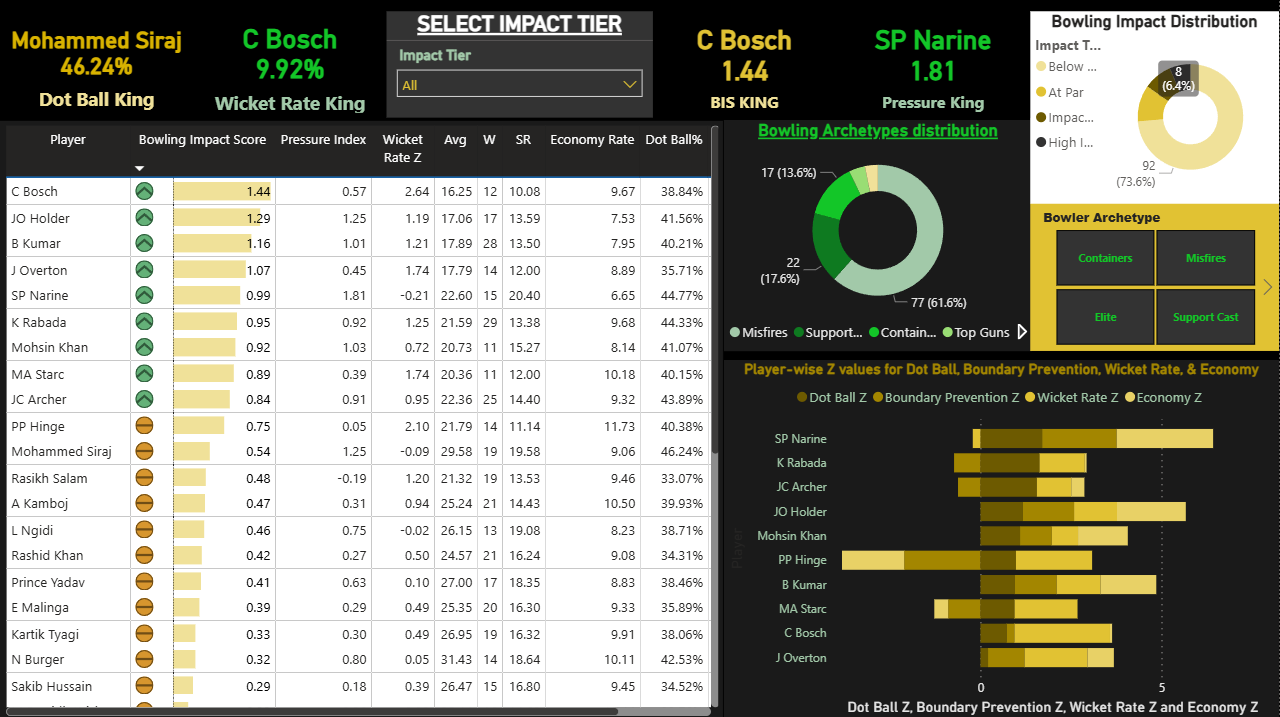

Layout of this report page (visuals, bound fields, positions):
{"tool":"powerbi","page":{"name":"Bowling Impact","canvas":[1280,720],"ordinal":0},"visuals":[{"type":"tableEx","fields":{"Values":["Bowling_All.Player","Bowling_All.Bowling Impact Score","Bowling_All.Pressure Index","Bowling_All.Wicket Rate Z","Bowling_All.Avg","Bowling_All.W","Bowling_All.SR","Bowling_All.Economy Rate","Bowling_All.Dot Ball%","Bowling_All.Qualified Bowler"]},"box":[0,119.8,724.9,600.2],"z":0},{"type":"card","fields":{"Values":["Bowling_All.Dot Ball King Card"]},"box":[0,11,195.6,106.3],"z":1000},{"type":"card","fields":{"Values":["Bowling_All.Wicket Rate King"]},"box":[195,11.2,192.5,106.2],"z":2000},{"type":"donutChart","title":"Bowling Archetypes distribution","fields":{"Category":["Bowling_All.Bowler Archetype"],"Y":["CountNonNull(Bowling_All.Player)"]},"box":[724.9,119.8,308,231],"z":3000},{"type":"donutChart","title":"Bowling Impact Distribution","fields":{"Y":["CountNonNull(Bowling_All.Player)"],"Category":["Bowling_All.Impact Tier"]},"box":[1031.2,11.2,248.8,192.5],"z":4000},{"type":"barChart","title":"Player-wise Z values for Dot Ball, Boundary Prevention, Wicket Rate, & Economy ","fields":{"Category":["Bowling_All.Player"],"Y":["Bowling_All.Dot Ball Z","Bowling_All.Boundary Prevention Z","Bowling_All.Wicket Rate Z","Bowling_All.Economy Z"]},"box":[724.7,360,555.3,360],"z":5000},{"type":"slicer","fields":{"Values":["Bowling_All.Bowler Archetype"]},"box":[1031.2,203.8,248.8,147.5],"z":6000},{"type":"card","fields":{"Values":["Bowling_All.BIS Leader Card"]},"box":[653.8,11.2,183.8,106.2],"z":7000},{"type":"card","fields":{"Values":["Bowling_All.Pressure King Card"]},"box":[837.5,11.2,193.8,106.2],"z":8000},{"type":"slicer","title":"SELECT IMPACT TIER","fields":{"Values":["Bowling_All.Impact Tier"]},"box":[387.5,11.2,266.2,106.2],"z":9000}]}

Visuals, with their boxes in screenshot pixels (x1, y1, x2, y2), scaled from the page's 1280x720 canvas onto the 1280x717 screenshot:
tableEx - Bowling_All.Player x Bowling_All.Bowling Impact Score: (0, 119, 725, 716)
card - Bowling_All.Dot Ball King Card: (0, 11, 196, 117)
card - Bowling_All.Wicket Rate King: (195, 11, 388, 117)
"Bowling Archetypes distribution" donutChart: (725, 119, 1033, 349)
"Bowling Impact Distribution" donutChart: (1031, 11, 1279, 203)
"Player-wise Z values for Dot Ball, Boundary Prevention, Wicket Rate, & Economy " barChart: (725, 358, 1279, 716)
slicer - Bowling_All.Bowler Archetype: (1031, 203, 1279, 350)
card - Bowling_All.BIS Leader Card: (654, 11, 838, 117)
card - Bowling_All.Pressure King Card: (838, 11, 1031, 117)
"SELECT IMPACT TIER" slicer: (388, 11, 654, 117)
